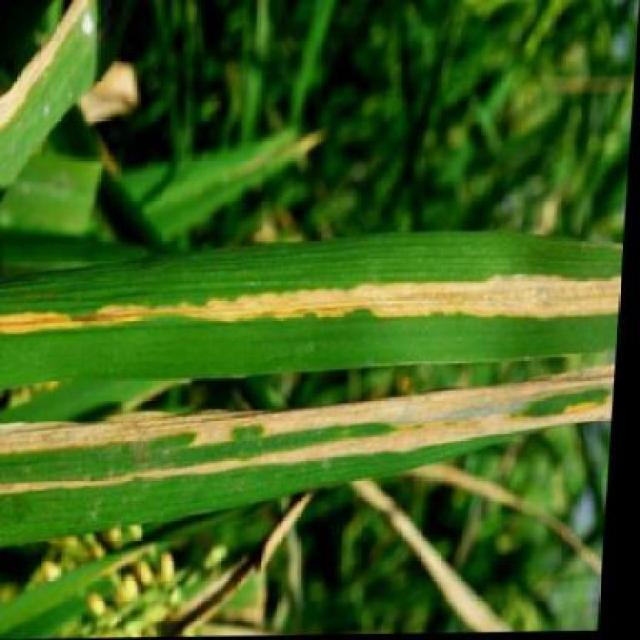Brown_Spot: (0, 368, 620, 514), (0, 266, 626, 354), (0, 606, 577, 636)
